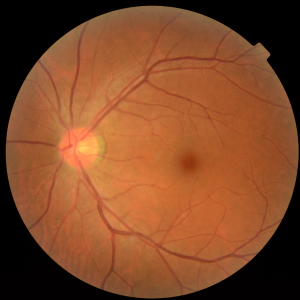healthy_eye: (32, 87, 217, 206)
